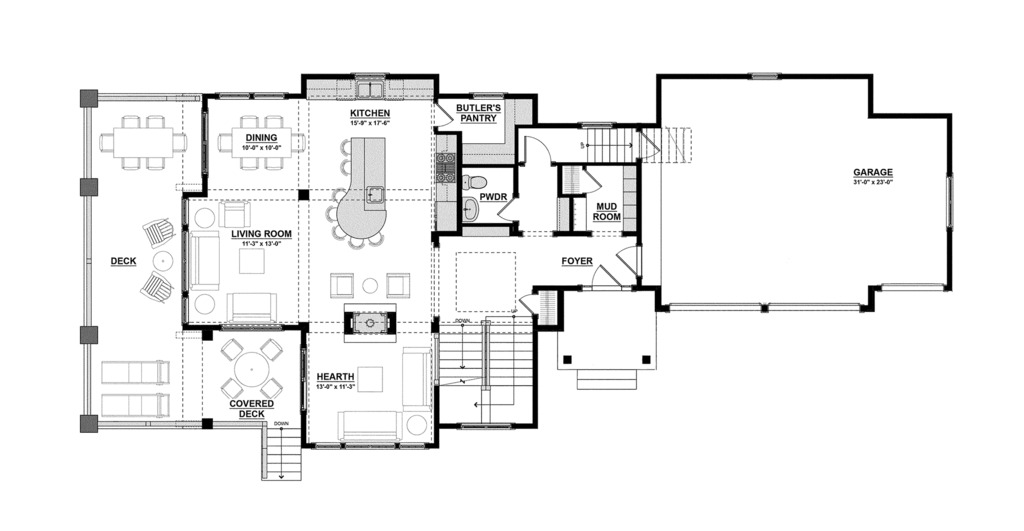dining_table: (97, 114, 191, 174), (217, 112, 308, 169)
door: (615, 243, 646, 279), (522, 131, 552, 165), (592, 262, 623, 293), (494, 194, 518, 223), (582, 169, 603, 199), (518, 291, 540, 316), (434, 105, 454, 128)
large_sink: (456, 172, 488, 192)
large_sofa: (334, 410, 406, 443), (401, 346, 433, 414), (188, 231, 223, 291), (223, 291, 281, 323), (215, 201, 251, 229)
small_sink: (452, 194, 478, 223)
small_sofa: (215, 200, 252, 229), (381, 272, 414, 302), (218, 376, 246, 403), (327, 272, 355, 298), (260, 376, 285, 402), (217, 338, 243, 361), (259, 336, 280, 359)
stairs: (435, 315, 537, 427), (578, 125, 695, 167)
windows: (669, 302, 860, 315), (879, 281, 953, 294), (946, 177, 957, 233), (746, 69, 784, 82)
